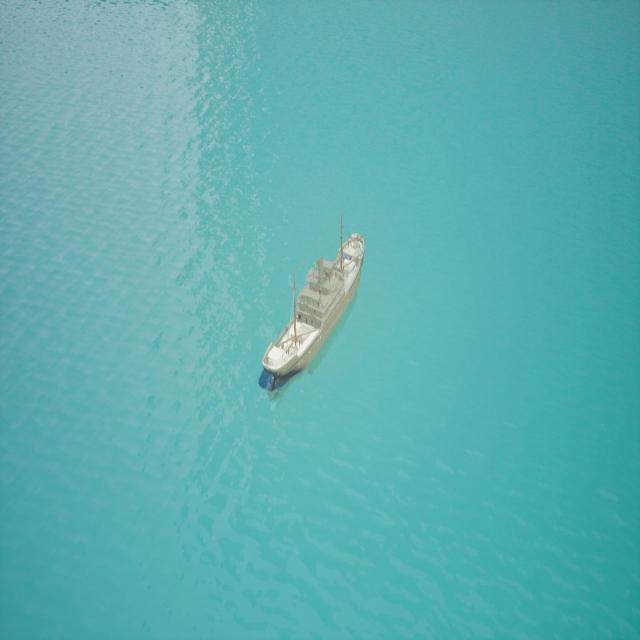fishing ship: (258, 202, 350, 417)
